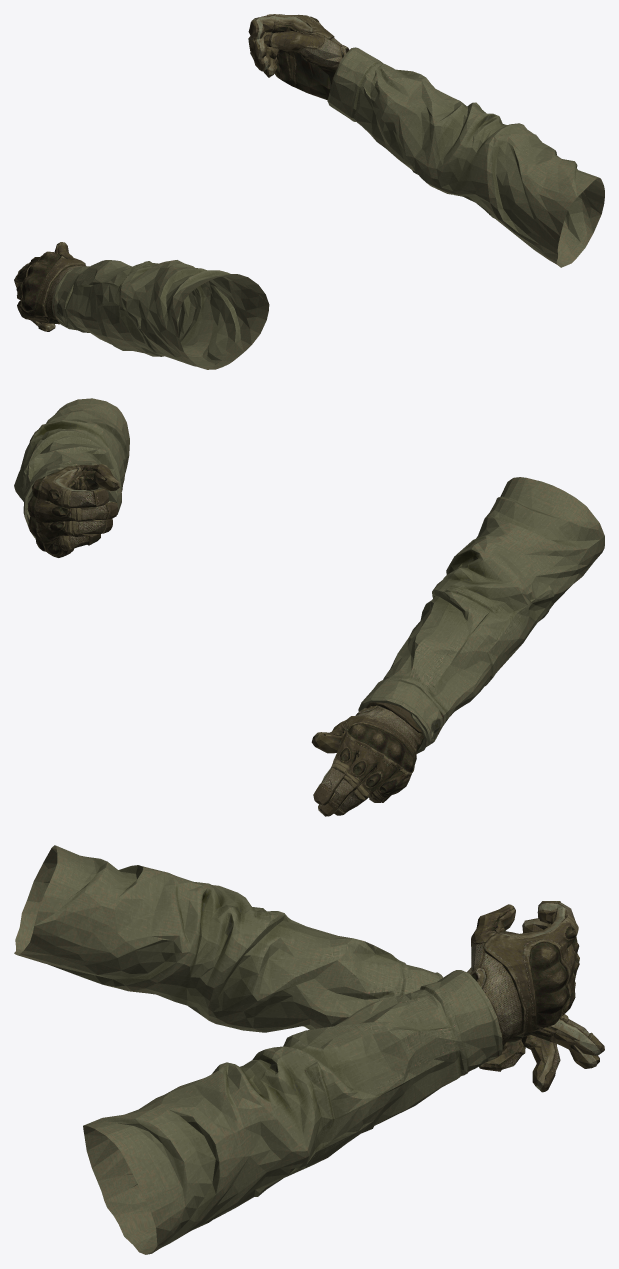
The model's file is ct_arms_grip.obj.
3 renders of one model, top to bottom at view 1: azimuth 30°, elevation 25°; view 2: azimuth 150°, elevation 25°; view 3: azimuth 270°, elevation 25°, orthographic. The views are drawn at different scales.
Bounding box in the file's own units: 0.3233 × 0.1599 × 0.256.
Materials: 2 (2 with a texture image).
